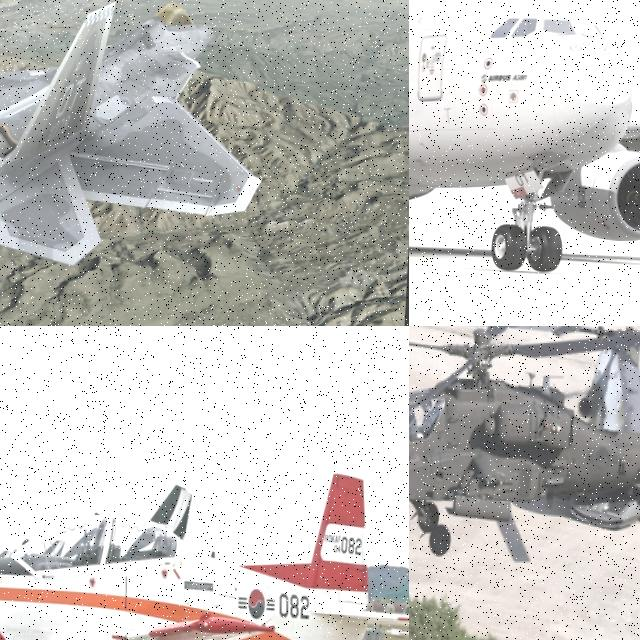A380: (409, 0, 640, 288)
Apache: (409, 326, 640, 580)
F22: (0, 0, 271, 279)
KT-1: (0, 446, 409, 640)
